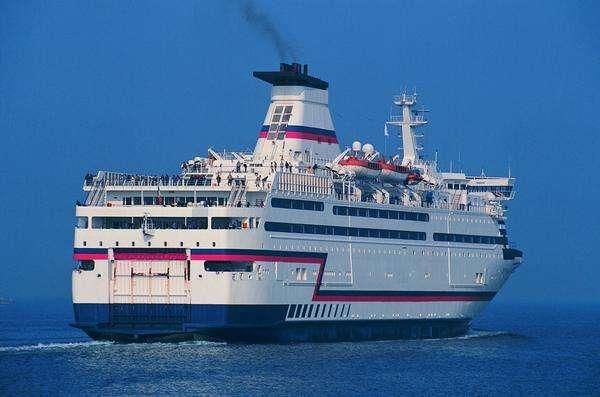youlun: (70, 55, 531, 346)
